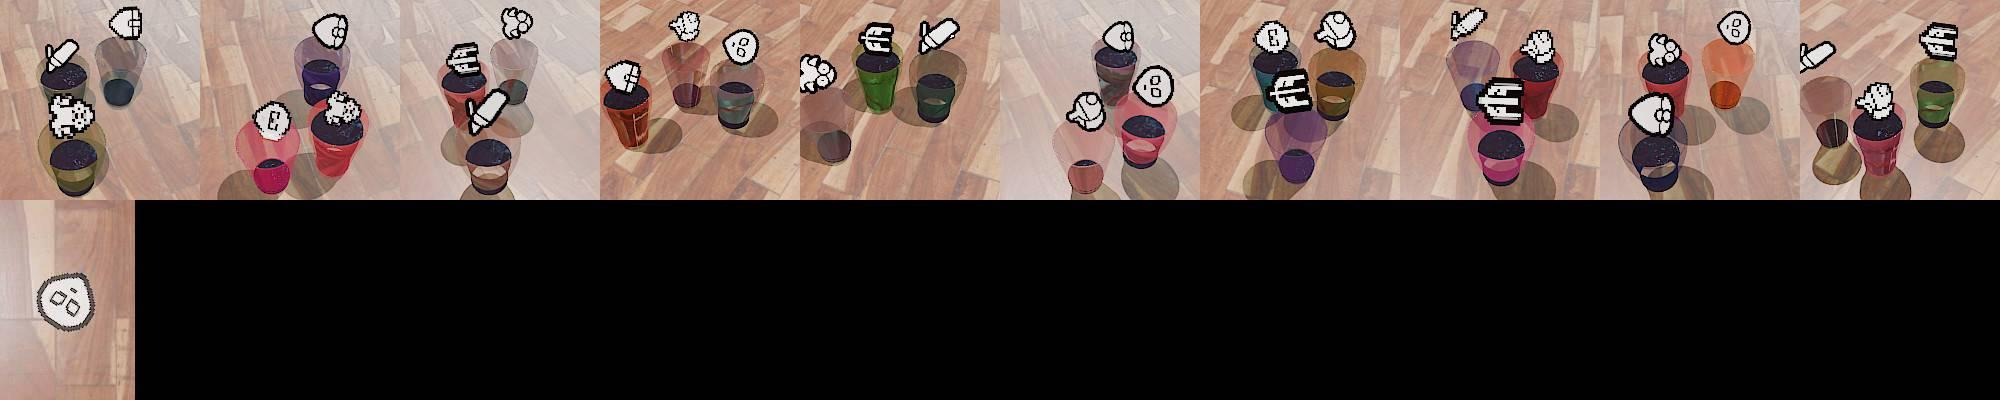icon: (33, 271, 96, 332), (1628, 90, 1677, 138), (47, 93, 97, 140), (467, 85, 510, 136), (1477, 78, 1526, 122), (1267, 70, 1314, 113), (1131, 64, 1176, 108), (251, 99, 295, 140), (1314, 10, 1356, 51), (797, 52, 838, 94), (917, 17, 960, 56), (1066, 90, 1106, 131), (323, 88, 364, 126), (1251, 20, 1292, 59), (722, 28, 760, 66), (1856, 80, 1895, 117), (311, 13, 348, 51), (1519, 28, 1557, 64), (1717, 9, 1753, 46), (1647, 32, 1684, 68), (1449, 6, 1486, 42), (605, 60, 643, 94), (858, 22, 897, 56), (43, 38, 79, 74), (1800, 39, 1837, 74), (1102, 20, 1136, 55), (108, 6, 143, 41), (500, 6, 534, 39), (668, 10, 704, 42), (448, 43, 481, 74), (1921, 23, 1958, 45)
